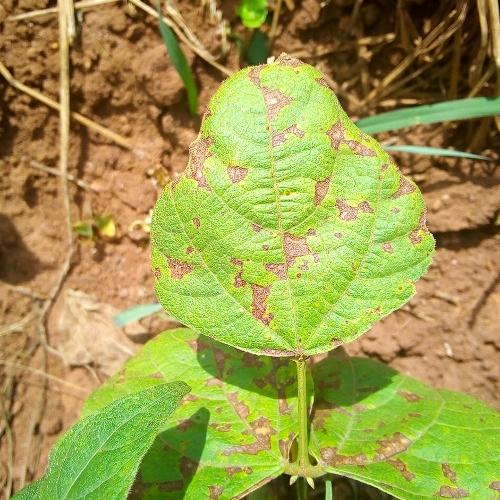hawar: (143, 348, 302, 500), (311, 376, 445, 480), (220, 219, 310, 325), (296, 162, 416, 232), (264, 121, 390, 164), (181, 137, 253, 206), (154, 213, 206, 286), (367, 210, 438, 260), (237, 66, 298, 123)
